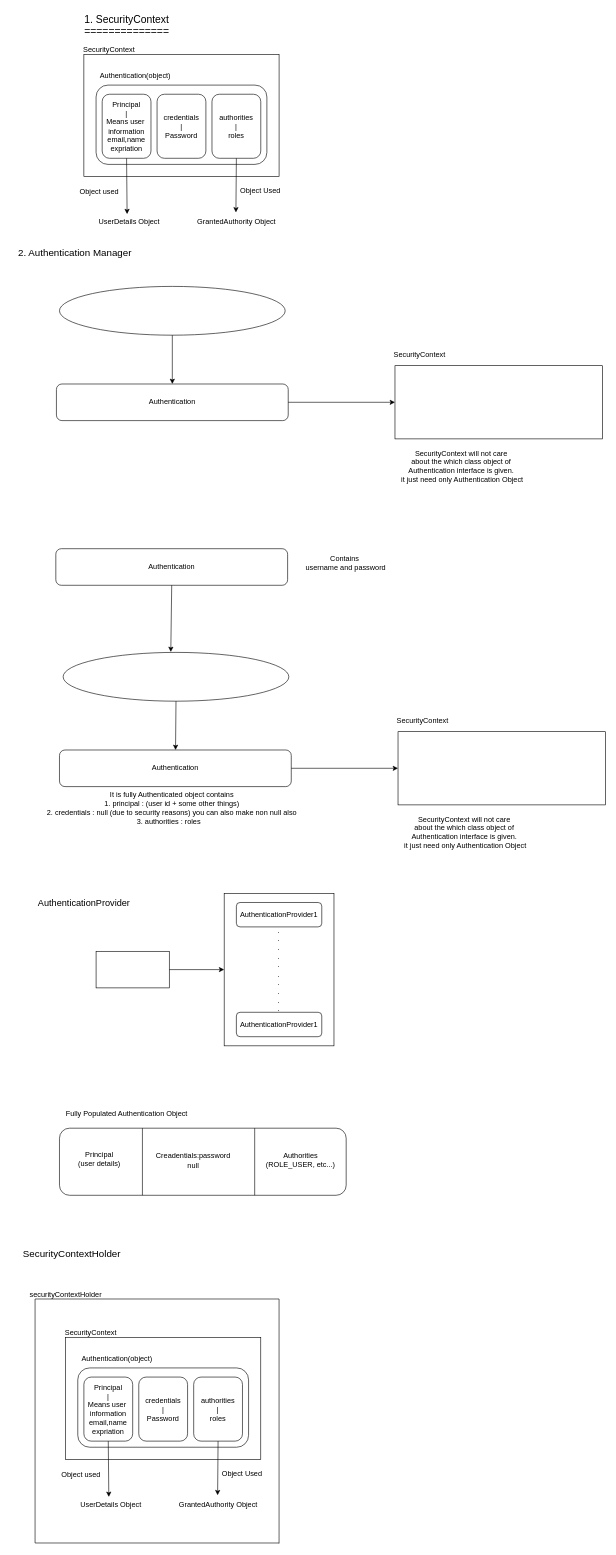
Image size: 616x1555. Some labels were removed from this diagram. Each missing label, with the centre of its shape:
AuthenticationManager: the point at 172,310
AuthenticationManager | authenticate(method): the point at 176,676
ProviderManager: the point at 132,969
